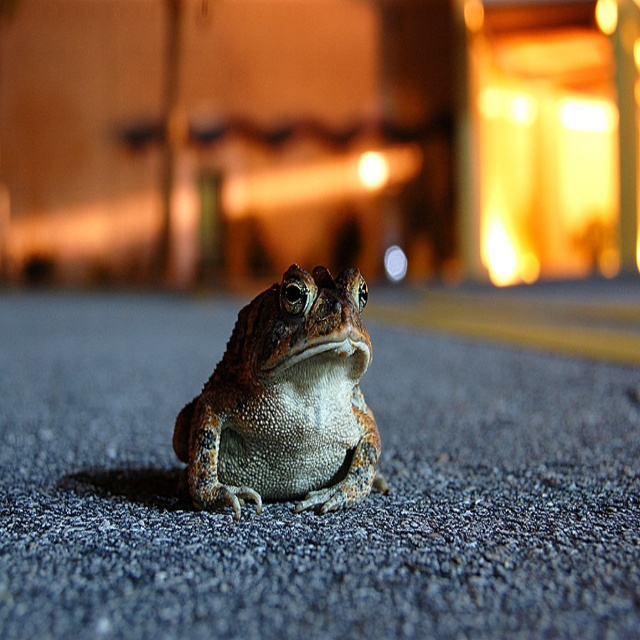Frog: (171, 260, 392, 525)
